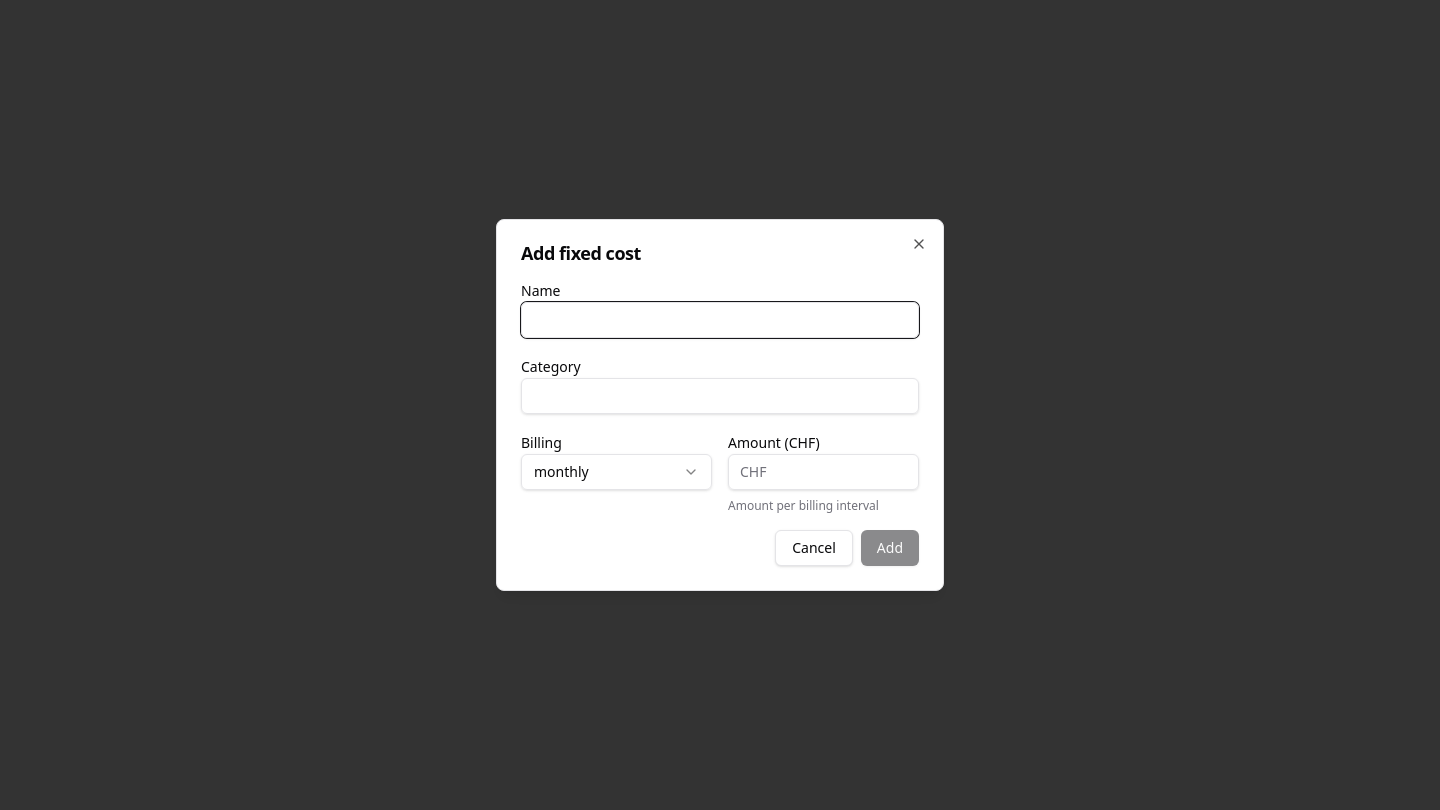
Test: FixedCostDialog › category combobox › suggests the existing categories on focus and filters them while typing
Click the dropdown labelled "Category" at (720, 396), box [521,378,919,414]
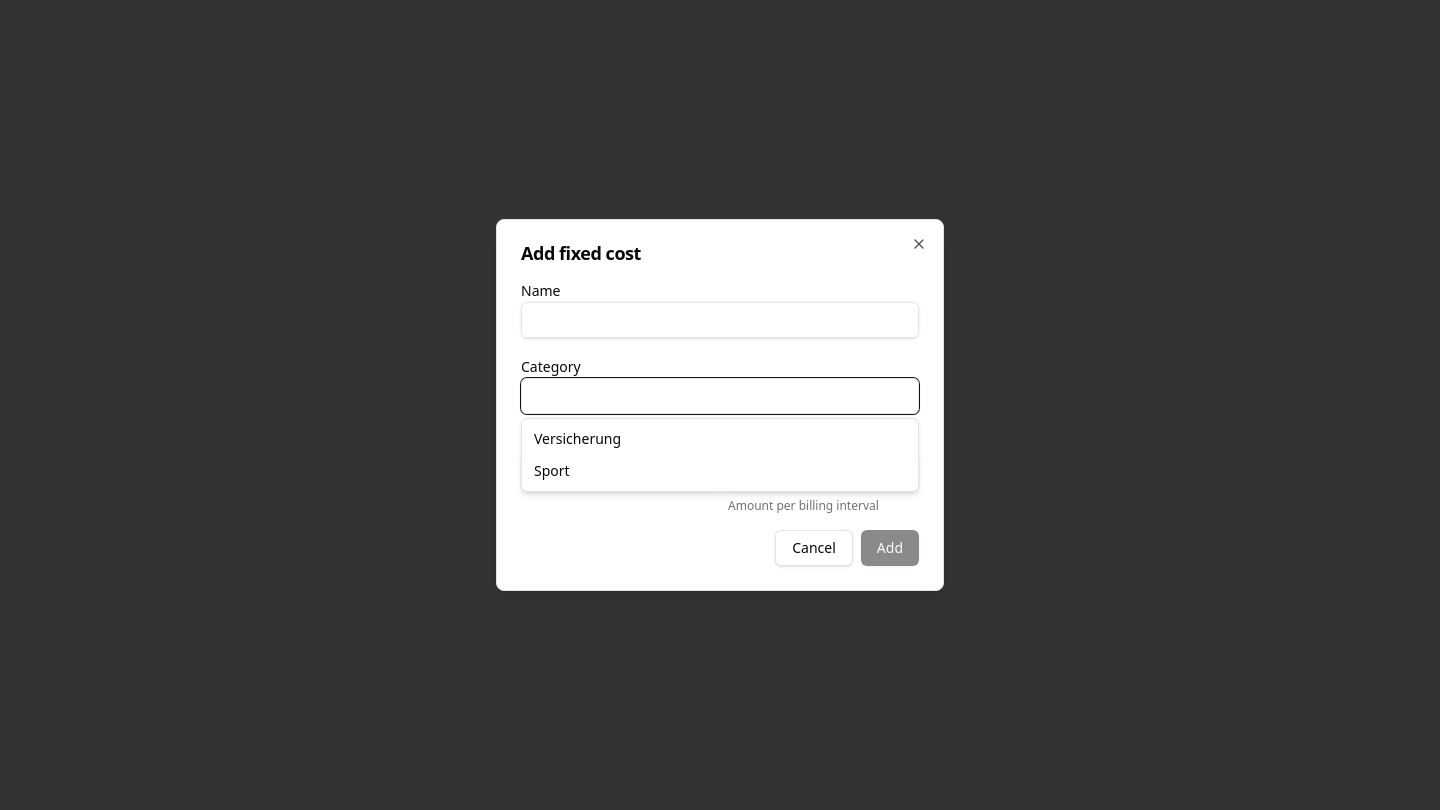
Expected: the option "Versicherung" is shown, [534,429,621,448]
Expected: the option "Sport" is shown, [534,461,570,480]
Type keys "vers"
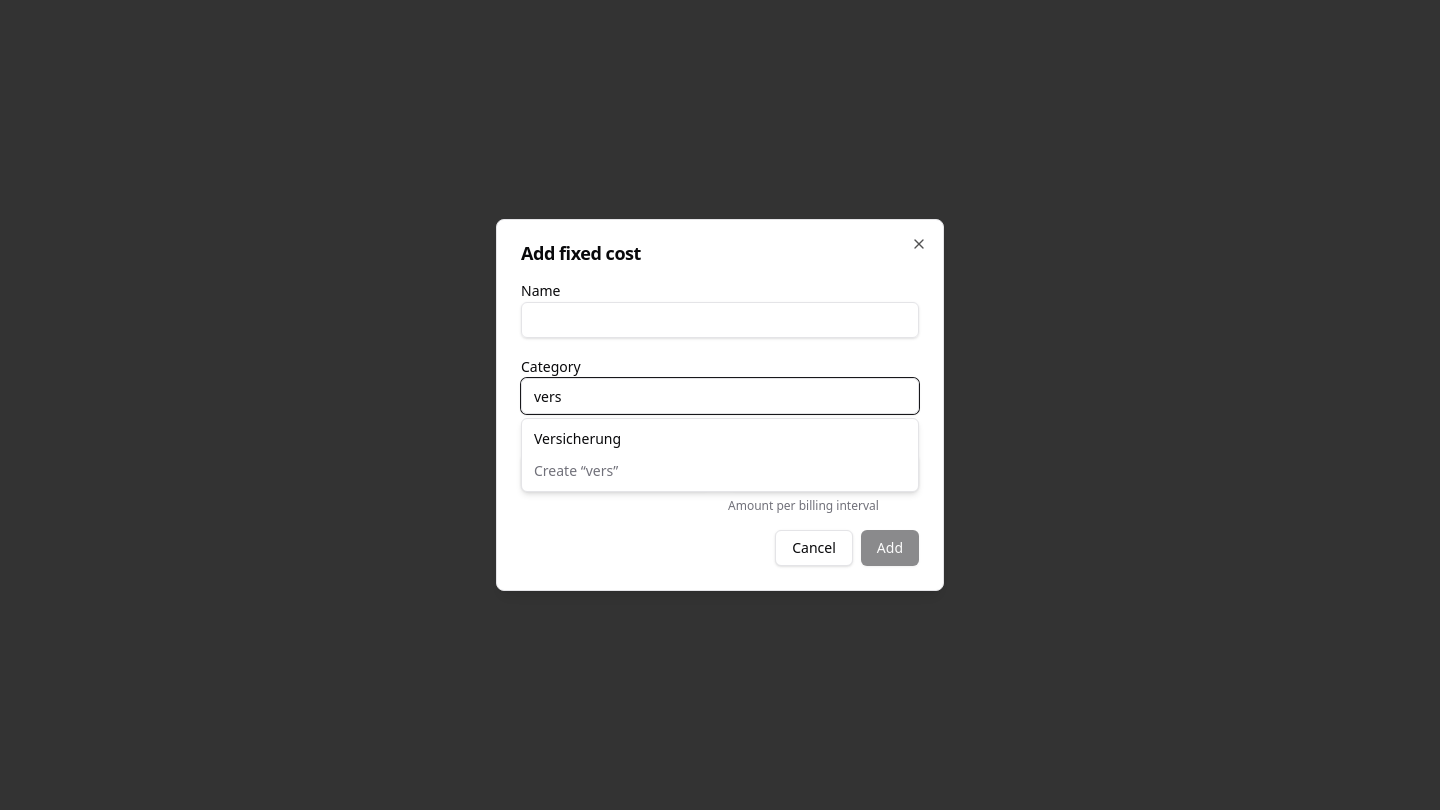
Expected: the option "Versicherung" is shown, [534,429,621,448]
Expected: the option "Sport" is gone
